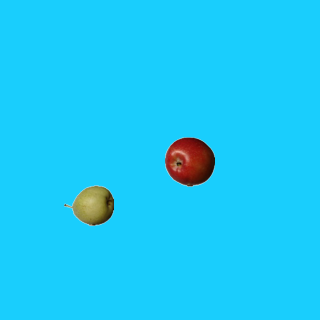Apple Braeburn: (164, 136, 214, 186)
Pear: (63, 180, 113, 230)
